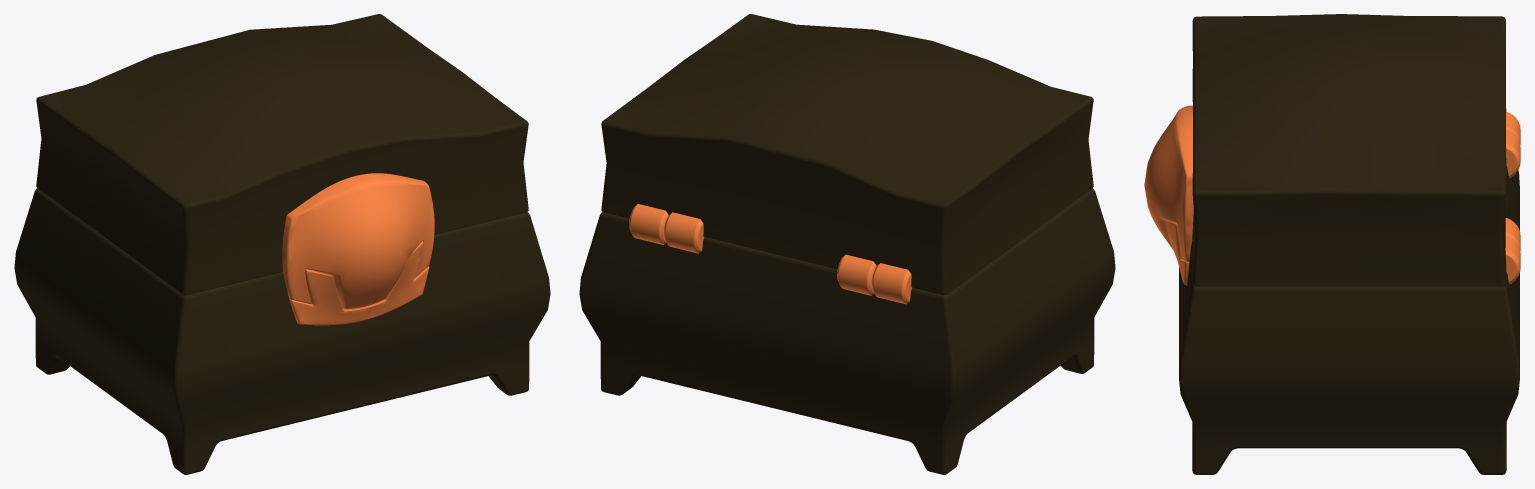
File: chest-2.glb
The picture shows the model from 3 angles, left to right: view 1: azimuth 30°, elevation 25°; view 2: azimuth 150°, elevation 25°; view 3: azimuth 270°, elevation 25°; orthographic projection. The views are drawn at different scales.
Visible parts, largest first — view 1: lid.002, chest.002, lock top.002, lock bottom.002; view 2: lid.002, chest.002, hinges.002; view 3: lid.002, chest.002, lock top.002, hinges.002, lock bottom.002.
Boxes of the visible parts, <box> form: lid.002: <box>36,14,528,294</box>; chest.002: <box>14,188,550,474</box>; lock top.002: <box>282,173,434,309</box>; lock bottom.002: <box>289,241,429,325</box>; lid.002: <box>601,14,1093,294</box>; chest.002: <box>579,188,1115,474</box>; hinges.002: <box>629,204,911,304</box>; lid.002: <box>1192,14,1506,286</box>; chest.002: <box>1179,166,1519,474</box>; lock top.002: <box>1144,105,1193,261</box>; hinges.002: <box>1505,111,1520,284</box>; lock bottom.002: <box>1165,221,1189,285</box>.
Size of the model in its own units: 1.17 by 0.9284 by 0.967.
